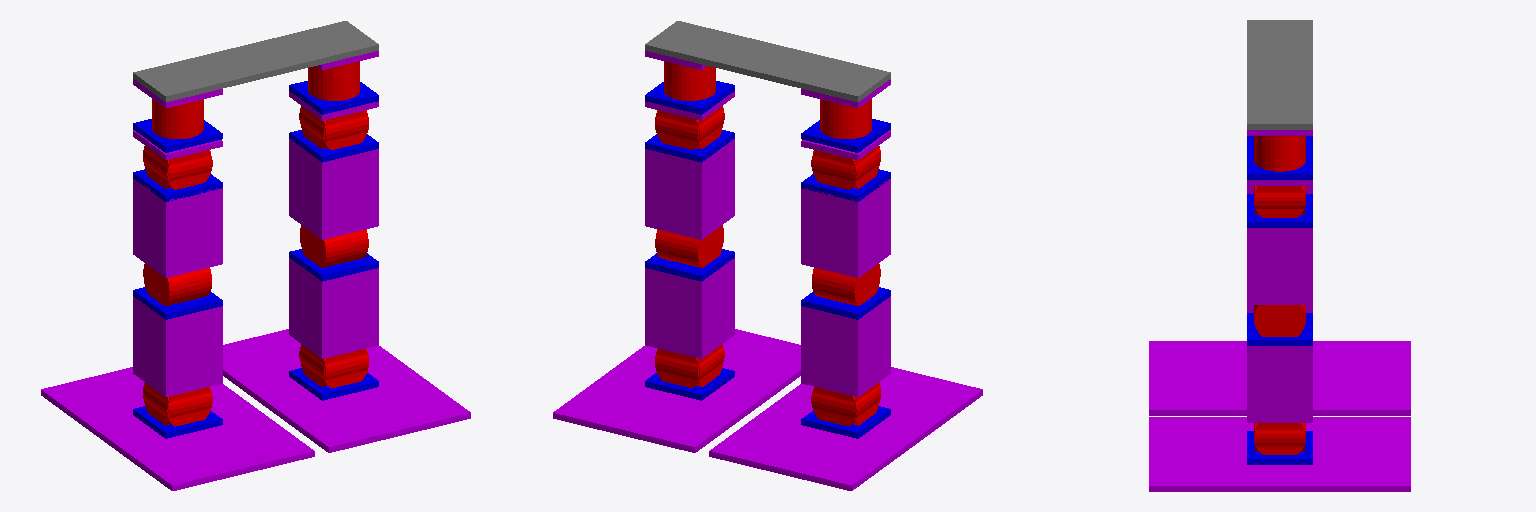
--- What the picture shows (computed from the rendered views, not written in the file) ---
The picture shows the robot from 3 angles, left to right: view 1: azimuth 30°, elevation 25°; view 2: azimuth 150°, elevation 25°; view 3: azimuth 270°, elevation 25°; orthographic projection.
Model piernas with 28 links and 27 joints (12 revolute, 15 fixed), rooted at map, posed all joints at 0.
Visible links, largest first — view 1: pie_der_link, pie_izq_link, base_link, box3_izq_link, box5_der_link, box5_izq_link, box3_der_link, box4_der_link, box1_der_link, box4_izq_link, box1_izq_link, box2_der_link (+15 smaller); view 2: pie_der_link, pie_izq_link, base_link, box3_izq_link, box5_der_link, box5_izq_link, box3_der_link, box4_der_link, box1_der_link, box4_izq_link, box1_izq_link, box2_der_link (+15 smaller); view 3: pie_izq_link, pie_der_link, base_link, box3_izq_link, box5_izq_link, box1_izq_link, box4_izq_link, box2_izq_link, box6_izq_link, blue_box2_izq_link, blue_box6_izq_link, blue_box4_izq_link (+3 smaller).
Link boxes in pixels (box(x1,y1,x2,y2)): pie_der_link: box(41, 367, 314, 490); pie_izq_link: box(223, 329, 470, 452); base_link: box(133, 21, 378, 101); box3_izq_link: box(289, 139, 378, 236); box5_der_link: box(133, 296, 222, 393); box5_izq_link: box(289, 258, 378, 354); box3_der_link: box(133, 179, 222, 273); box4_der_link: box(133, 250, 222, 305); box1_der_link: box(133, 79, 222, 138); box4_izq_link: box(289, 213, 378, 267); box1_izq_link: box(308, 51, 378, 100); box2_der_link: box(133, 130, 222, 188); pie_der_link: box(709, 367, 982, 490); pie_izq_link: box(553, 329, 800, 452); base_link: box(645, 21, 890, 101); box3_izq_link: box(645, 139, 734, 236); box5_der_link: box(801, 296, 890, 393); box5_izq_link: box(645, 258, 734, 354); box3_der_link: box(801, 179, 890, 271); box4_der_link: box(801, 249, 890, 305); box1_der_link: box(801, 79, 890, 138); box4_izq_link: box(645, 212, 734, 267); box1_izq_link: box(645, 51, 715, 100); box2_der_link: box(801, 130, 890, 188); pie_izq_link: box(1149, 417, 1410, 491); pie_der_link: box(1149, 341, 1410, 415); base_link: box(1247, 20, 1312, 129); box3_izq_link: box(1247, 228, 1312, 301); box5_izq_link: box(1247, 346, 1312, 419); box1_izq_link: box(1247, 130, 1312, 171); box4_izq_link: box(1247, 301, 1312, 336); box2_izq_link: box(1247, 180, 1312, 217); box6_izq_link: box(1247, 417, 1312, 454); blue_box2_izq_link: box(1247, 194, 1312, 227); blue_box6_izq_link: box(1247, 431, 1312, 464); blue_box4_izq_link: box(1247, 313, 1312, 345).
Size in the robot's own frame: 0.21 by 0.16 by 0.234 metres.
Geometry: primitives only (box / cylinder / sphere), no mesh files.

The robot description file, URDF, robot "piernas":
<?xml version="1.0" ?>
<!-- =================================================================================== -->
<!-- |    This document was autogenerated by xacro from [local-path]/WS_ROS/ws_tfg/src/bipedo/bipedo_description/urdf/bipedo.xacro | -->
<!-- |    EDITING THIS FILE BY HAND IS NOT RECOMMENDED                                 | -->
<!-- =================================================================================== -->
<robot name="piernas" xmlns:xacro="http://ros.org/wiki/xacro">
  <!-- en kg-->
  <link name="map"/>
  <joint name="map" type="fixed">
    <origin rpy="0 0 0" xyz="0 0 0"/>
    <parent link="map"/>
    <child link="base_link"/>
  </joint>
  <link name="base_link">
    <inertial>
      <origin rpy="0 0 0" xyz="0 0 0"/>
      <mass value="8"/>
      <inertia ixx="0.0188533333333" ixy="0" ixz="0" iyy="0.262686666667" iyz="0" izz="0.262686666667"/>
    </inertial>
    <visual>
      <origin rpy="0 0 0" xyz="0 0 0"/>
      <geometry>
        <box size="0.15 0.04 0.004"/>
      </geometry>
      <material name="">
        <color rgba="0.5 0.5 0.5 1"/>
      </material>
    </visual>
    <collision>
      <origin rpy="0 0 0" xyz="0 0 0"/>
      <geometry>
        <box size="0.15 0.04 0.004"/>
      </geometry>
    </collision>
  </link>
  <!--<xacro:macro name="pierna" params="side side2">
	<xacro:servo side="base"  side2="box" angulo="-${pi/2}"/>
</xacro:macro>-->
  <!-- Build robot model -->
  <!-- <xacro:pierna side="base_link"  side2="2"/>-->
  <joint name="base_box1_izq_joint" type="fixed">
    <origin rpy="0 0 0" xyz="0.055 0 -0.004"/>
    <parent link="base_link"/>
    <child link="box1_izq_link"/>
    <axis xyz="0 0 0"/>
    <limit effort="10000000000000000" lower="-2.5" upper="2.5" velocity="10000000000000000"/>
  </joint>
  <link name="box1_izq_link">
    <inertial>
      <origin rpy="0 0 0" xyz="0 0 0"/>
      <mass value="1.75"/>
      <inertia ixx="0.00235666666667" ixy="0" ixz="0" iyy="0.00235666666667" iyz="0" izz="0.00235666666667"/>
    </inertial>
    <inertial>
      <origin rpy="0 0 0" xyz="0.11 2.7756E-17 1.3293E-50"/>
      <mass value="0.35"/>
      <inertia ixx="0.0024325" ixy="0" ixz="0" iyy="$50*{m*(3*r*r+h*h)/12}" iyz="0" izz="0.00224"/>
    </inertial>
    <visual>
      <origin rpy="0 0 0" xyz="0 0 0"/>
      <geometry>
        <box size="0.04 0.04 0.004"/>
      </geometry>
      <material name="">
        <color rgba="0.79216 0 0.93333 1"/>
      </material>
    </visual>
    <visual>
      <origin rpy="0 0 1.57079632679" xyz="0 0 -0.013"/>
      <geometry>
        <cylinder length="0.03" radius="0.016"/>
      </geometry>
      <material name="">
        <color rgba="1 0 0 1"/>
      </material>
    </visual>
    <collision>
      <origin rpy="0 0 0" xyz="0 0 0"/>
      <geometry>
        <box size="0.008 0.008 0.0008"/>
      </geometry>
    </collision>
    <collision>
      <origin rpy="0 0 1.57079632679" xyz="0 0 -0.013"/>
      <geometry>
        <cylinder length="0.006" radius="0.0032"/>
      </geometry>
    </collision>
  </link>
  <joint name="cilinder_blue_box1_izq_joint" type="revolute">
    <origin rpy="0 0 0" xyz="0 0 -0.017"/>
    <parent link="box1_izq_link"/>
    <child link="blue_box1_izq_link"/>
    <axis xyz="0 0 1"/>
    <limit effort="10000000000000000" lower="-2.5" upper="2.5" velocity="10000000000000000"/>
  </joint>
  <link name="blue_box1_izq_link">
    <inertial>
      <origin rpy="0 0 0" xyz="0 0 0"/>
      <mass value="1.75"/>
      <inertia ixx="0.00235666666667" ixy="0" ixz="0" iyy="0.00235666666667" iyz="0" izz="0.00235666666667"/>
    </inertial>
    <visual>
      <origin rpy="0 0 0" xyz="0 0 -0.013"/>
      <geometry>
        <box size="0.04 0.04 0.004"/>
      </geometry>
      <material name="">
        <color rgba="0 0 1 1"/>
      </material>
    </visual>
    <collision>
      <origin rpy="0 0 0" xyz="0 0 -0.013"/>
      <geometry>
        <box size="0.04 0.04 0.004"/>
      </geometry>
    </collision>
  </link>
  <joint name="blue_box1_izq_box2_izq_joint" type="fixed">
    <origin rpy="0 0 0" xyz="0 0 -0.017"/>
    <parent link="blue_box1_izq_link"/>
    <child link="box2_izq_link"/>
    <axis xyz="0 0 0"/>
    <limit effort="10000000000000000" lower="-2.5" upper="2.5" velocity="10000000000000000"/>
  </joint>
  <link name="box2_izq_link">
    <inertial>
      <origin rpy="0 0 0" xyz="0 0 0"/>
      <mass value="0.35"/>
      <inertia ixx="0.00235666666667" ixy="0" ixz="0" iyy="0.00235666666667" iyz="0" izz="0.00235666666667"/>
    </inertial>
    <inertial>
      <origin rpy="0 0 0" xyz="0.11 2.7756E-17 1.3293E-50"/>
      <mass value="0.35"/>
      <inertia ixx="0.0024325" ixy="0" ixz="0" iyy="$50*{m*(3*r*r+h*h)/12}" iyz="0" izz="0.00224"/>
    </inertial>
    <visual>
      <origin rpy="0 0 0" xyz="0 0 0"/>
      <geometry>
        <box size="0.04 0.04 0.004"/>
      </geometry>
      <material name="">
        <color rgba="0.79216 0 0.93333 1"/>
      </material>
    </visual>
    <visual>
      <origin rpy="1.57079632679 0 1.57079632679" xyz="0 0 -0.014"/>
      <geometry>
        <cylinder length="0.03" radius="0.016"/>
      </geometry>
      <material name="">
        <color rgba="1 0 0 1"/>
      </material>
    </visual>
    <collision>
      <origin rpy="0 0 0" xyz="0 0 0"/>
      <geometry>
        <box size="0.04 0.04 0.004"/>
      </geometry>
    </collision>
    <collision>
      <origin rpy="1.57079632679 0 0" xyz="0 0 -0.014"/>
      <geometry>
        <cylinder length="0.009" radius="0.0048"/>
      </geometry>
    </collision>
  </link>
  <joint name="cilinder_blue1_box2_izq_joint" type="revolute">
    <origin rpy="0 0 0" xyz="0 0 -0.014"/>
    <parent link="box2_izq_link"/>
    <child link="auxiliarbox2_izq"/>
    <axis xyz="0 1 0"/>
    <limit effort="10000000000000000" lower="-2.5" upper="2.5" velocity="10000000000000000"/>
  </joint>
  <link name="auxiliarbox2_izq">
    <inertial>
      <origin rpy="0 0 0" xyz="0 0 0"/>
      <mass value="0.35"/>
      <inertia ixx="0.0" ixy="0" ixz="0" iyy="0.0" iyz="0" izz="0.0"/>
    </inertial>
    <visual>
      <origin rpy="1.57079632679 0 0" xyz="0 0 0"/>
      <geometry>
        <cylinder length="0.03" radius="0.016"/>
      </geometry>
      <material name="">
        <color rgba="1 0 0 1"/>
      </material>
    </visual>
    <collision>
      <origin rpy="1.57079632679 0 1.57079632679" xyz="0 0 0"/>
      <geometry>
        <cylinder length="0.009" radius="0.0048"/>
      </geometry>
    </collision>
  </link>
  <joint name="cilinder_blue_box2_izq_joint" type="revolute">
    <origin rpy="0 0 0" xyz="0 0 0"/>
    <parent link="auxiliarbox2_izq"/>
    <child link="blue_box2_izq_link"/>
    <axis xyz="1 0 0"/>
    <limit effort="10000000000000000" lower="-2.5" upper="2.5" velocity="10000000000000000"/>
  </joint>
  <link name="blue_box2_izq_link">
    <inertial>
      <origin rpy="0 0 0" xyz="0 0 0"/>
      <mass value="0.35"/>
      <inertia ixx="0.00235666666667" ixy="0" ixz="0" iyy="0.00235666666667" iyz="0" izz="0.00235666666667"/>
    </inertial>
    <visual>
      <origin rpy="0 0 0" xyz="0 0 -0.014"/>
      <geometry>
        <box size="0.04 0.04 0.004"/>
      </geometry>
      <material name="">
        <color rgba="0 0 1 1"/>
      </material>
    </visual>
    <collision>
      <origin rpy="0 0 0" xyz="0 0 -0.014"/>
      <geometry>
        <box size="0.04 0.04 0.004"/>
      </geometry>
    </collision>
  </link>
  <joint name="blue_box2_izq_box3_izq_joint" type="fixed">
    <origin rpy="0 0 0" xyz="0 0 -0.041"/>
    <parent link="blue_box2_izq_link"/>
    <child link="box3_izq_link"/>
    <axis xyz="0 0 0"/>
    <limit effort="10000000000000000" lower="-2.5" upper="2.5" velocity="10000000000000000"/>
  </joint>
  <link name="box3_izq_link">
    <inertial>
      <origin rpy="0 0 0" xyz="0 0 0"/>
      <mass value="0.35"/>
      <inertia ixx="0.00235666666667" ixy="0" ixz="0" iyy="0.00235666666667" iyz="0" izz="0.00235666666667"/>
    </inertial>
    <visual>
      <origin rpy="0 0 0" xyz="0 0 0"/>
      <geometry>
        <box size="0.04 0.04 0.05"/>
      </geometry>
      <material name="">
        <color rgba="0.79216 0 0.93333 1"/>
      </material>
    </visual>
    <collision>
      <origin rpy="0 0 0" xyz="0 0 0"/>
      <geometry>
        <box size="0.04 0.04 0.05"/>
      </geometry>
    </collision>
  </link>
  <joint name="box3_izq_box4_izq_joint" type="fixed">
    <origin rpy="0 0 0" xyz="0 0 -0.025"/>
    <parent link="box3_izq_link"/>
    <child link="box4_izq_link"/>
    <axis xyz="0 0 0"/>
    <limit effort="10000000000000000" lower="-2.5" upper="2.5" velocity="10000000000000000"/>
  </joint>
  <link name="box4_izq_link">
    <inertial>
      <origin rpy="0 0 0" xyz="0 0 0"/>
      <mass value="0.35"/>
      <inertia ixx="0.00235666666667" ixy="0" ixz="0" iyy="0.00235666666667" iyz="0" izz="0.00235666666667"/>
    </inertial>
    <inertial>
      <origin rpy="0 0 0" xyz="0.11 2.7756E-17 1.3293E-50"/>
      <mass value="0.35"/>
      <inertia ixx="0.0024325" ixy="0" ixz="0" iyy="$50*{m*(3*r*r+h*h)/12}" iyz="0" izz="0.00224"/>
    </inertial>
    <visual>
      <origin rpy="0 0 0" xyz="0 0 0"/>
      <geometry>
        <box size="0.04 0.04 0.004"/>
      </geometry>
      <material name="">
        <color rgba="0.79216 0 0.93333 1"/>
      </material>
    </visual>
    <visual>
      <origin rpy="1.57079632679 0 1.57079632679" xyz="0 0 -0.014"/>
      <geometry>
        <cylinder length="0.03" radius="0.016"/>
      </geometry>
      <material name="">
        <color rgba="1 0 0 1"/>
      </material>
    </visual>
    <collision>
      <origin rpy="0 0 0" xyz="0 0 0"/>
      <geometry>
        <box size="0.04 0.04 0.004"/>
      </geometry>
    </collision>
    <collision>
      <origin rpy="1.57079632679 0 1.57079632679" xyz="0 0 -0.014"/>
      <geometry>
        <cylinder length="0.03" radius="0.016"/>
      </geometry>
    </collision>
  </link>
  <joint name="cilinder_blue_box4_izq_joint" type="revolute">
    <origin rpy="0 0 0" xyz="0 0 -0.014"/>
    <parent link="box4_izq_link"/>
    <child link="blue_box4_izq_link"/>
    <axis xyz="1 0 0"/>
    <limit effort="10000000000000000" lower="-2.5" upper="2.5" velocity="10000000000000000"/>
  </joint>
  <link name="blue_box4_izq_link">
    <inertial>
      <origin rpy="0 0 0" xyz="0 0 0"/>
      <mass value="0.35"/>
      <inertia ixx="0.00235666666667" ixy="0" ixz="0" iyy="0.00235666666667" iyz="0" izz="0.00235666666667"/>
    </inertial>
    <visual>
      <origin rpy="0 0 0" xyz="0 0 -0.014"/>
      <geometry>
        <box size="0.04 0.04 0.004"/>
      </geometry>
      <material name="">
        <color rgba="0 0 1 1"/>
      </material>
    </visual>
    <collision>
      <origin rpy="0 0 0" xyz="0 0 -0.014"/>
      <geometry>
        <box size="0.04 0.04 0.004"/>
      </geometry>
    </collision>
  </link>
  <joint name="blue_box4_izq_box5_izq_joint" type="fixed">
    <origin rpy="0 0 0" xyz="0 0 -0.041"/>
    <parent link="blue_box4_izq_link"/>
    <child link="box5_izq_link"/>
    <axis xyz="0 0 0"/>
    <limit effort="10000000000000000" lower="-2.5" upper="2.5" velocity="10000000000000000"/>
  </joint>
  <link name="box5_izq_link">
    <inertial>
      <origin rpy="0 0 0" xyz="0 0 0"/>
      <mass value="0.35"/>
      <inertia ixx="0.00235666666667" ixy="0" ixz="0" iyy="0.00235666666667" iyz="0" izz="0.00235666666667"/>
    </inertial>
    <visual>
      <origin rpy="0 0 0" xyz="0 0 0"/>
      <geometry>
        <box size="0.04 0.04 0.05"/>
      </geometry>
      <material name="">
        <color rgba="0.79216 0 0.93333 1"/>
      </material>
    </visual>
    <collision>
      <origin rpy="0 0 0" xyz="0 0 0"/>
      <geometry>
        <box size="0.04 0.04 0.05"/>
      </geometry>
    </collision>
  </link>
  <joint name="box5_izq_box6_izq_joint" type="fixed">
    <origin rpy="0 0 0" xyz="0 0 -0.025"/>
    <parent link="box5_izq_link"/>
    <child link="box6_izq_link"/>
    <axis xyz="0 0 0"/>
    <limit effort="10000000000000000" lower="-2.5" upper="2.5" velocity="10000000000000000"/>
  </joint>
  <link name="box6_izq_link">
    <inertial>
      <origin rpy="0 0 0" xyz="0 0 0"/>
      <mass value="0.35"/>
      <inertia ixx="0.00235666666667" ixy="0" ixz="0" iyy="0.00235666666667" iyz="0" izz="0.00235666666667"/>
    </inertial>
    <inertial>
      <origin rpy="0 0 0" xyz="0.11 2.7756E-17 1.3293E-50"/>
      <mass value="0.35"/>
      <inertia ixx="0.0024325" ixy="0" ixz="0" iyy="$50*{m*(3*r*r+h*h)/12}" iyz="0" izz="0.00224"/>
    </inertial>
    <visual>
      <origin rpy="0 0 0" xyz="0 0 0"/>
      <geometry>
        <box size="0.04 0.04 0.004"/>
      </geometry>
      <material name="">
        <color rgba="0.79216 0 0.93333 1"/>
      </material>
    </visual>
    <visual>
      <origin rpy="1.57079632679 0 1.57079632679" xyz="0 0 -0.014"/>
      <geometry>
        <cylinder length="0.03" radius="0.016"/>
      </geometry>
      <material name="">
        <color rgba="1 0 0 1"/>
      </material>
    </visual>
    <collision>
      <origin rpy="0 0 0" xyz="0 0 0"/>
      <geometry>
        <box size="0.04 0.04 0.004"/>
      </geometry>
    </collision>
    <collision>
      <origin rpy="1.57079632679 0 0" xyz="0 0 -0.014"/>
      <geometry>
        <cylinder length="0.009" radius="0.0048"/>
      </geometry>
    </collision>
  </link>
  <joint name="cilinder_blue1_box6_izq_joint" type="revolute">
    <origin rpy="0 0 0" xyz="0 0 -0.014"/>
    <parent link="box6_izq_link"/>
    <child link="auxiliarbox6_izq"/>
    <axis xyz="0 1 0"/>
    <limit effort="10000000000000000" lower="-2.5" upper="2.5" velocity="10000000000000000"/>
  </joint>
  <link name="auxiliarbox6_izq">
    <inertial>
      <origin rpy="0 0 0" xyz="0 0 0"/>
      <mass value="0.35"/>
      <inertia ixx="0.0" ixy="0" ixz="0" iyy="0.0" iyz="0" izz="0.0"/>
    </inertial>
    <visual>
      <origin rpy="1.57079632679 0 0" xyz="0 0 0"/>
      <geometry>
        <cylinder length="0.03" radius="0.016"/>
      </geometry>
      <material name="">
        <color rgba="1 0 0 1"/>
      </material>
    </visual>
    <collision>
      <origin rpy="1.57079632679 0 1.57079632679" xyz="0 0 0"/>
      <geometry>
        <cylinder length="0.009" radius="0.0048"/>
      </geometry>
    </collision>
  </link>
  <joint name="cilinder_blue_box6_izq_joint" type="revolute">
    <origin rpy="0 0 0" xyz="0 0 0"/>
    <parent link="auxiliarbox6_izq"/>
    <child link="blue_box6_izq_link"/>
    <axis xyz="1 0 0"/>
    <limit effort="10000000000000000" lower="-2.5" upper="2.5" velocity="10000000000000000"/>
  </joint>
  <link name="blue_box6_izq_link">
    <inertial>
      <origin rpy="0 0 0" xyz="0 0 0"/>
      <mass value="0.35"/>
      <inertia ixx="0.00235666666667" ixy="0" ixz="0" iyy="0.00235666666667" iyz="0" izz="0.00235666666667"/>
    </inertial>
    <visual>
      <origin rpy="0 0 0" xyz="0 0 -0.014"/>
      <geometry>
        <box size="0.04 0.04 0.004"/>
      </geometry>
      <material name="">
        <color rgba="0 0 1 1"/>
      </material>
    </visual>
    <collision>
      <origin rpy="0 0 0" xyz="0 0 -0.014"/>
      <geometry>
        <box size="0.04 0.04 0.004"/>
      </geometry>
    </collision>
  </link>
  <joint name="blue_box6_izq_pie_izq_joint" type="fixed">
    <origin rpy="0 0 0" xyz="0 0 -0.018"/>
    <parent link="blue_box6_izq_link"/>
    <child link="pie_izq_link"/>
    <axis xyz="0 0 0"/>
    <limit effort="100" lower="-2.5" upper="2.5" velocity="10000000000000000"/>
  </joint>
  <link name="pie_izq_link">
    <inertial>
      <origin rpy="0 0 0" xyz="0 0 0"/>
      <mass value="0.35"/>
      <inertia ixx="0.00935666666667" ixy="0" ixz="0" iyy="0.00935666666667" iyz="0" izz="0.00935666666667"/>
    </inertial>
    <visual>
      <origin rpy="0 0 0" xyz="0 0 0"/>
      <geometry>
        <box size="0.1 0.16 0.004"/>
      </geometry>
      <material name="">
        <color rgba="0.79216 0 0.93333 1"/>
      </material>
    </visual>
    <collision>
      <origin rpy="0 0 0" xyz="0 0 0"/>
      <geometry>
        <box size="0.12 0.16 0.004"/>
      </geometry>
    </collision>
  </link>
  <joint name="base_box1_der_joint" type="fixed">
    <origin rpy="0 0 0" xyz="-0.055 0 -0.004"/>
    <parent link="base_link"/>
    <child link="box1_der_link"/>
    <axis xyz="0 0 0"/>
    <limit effort="10000000000000000" lower="-2.5" upper="2.5" velocity="10000000000000000"/>
  </joint>
  <link name="box1_der_link">
    <inertial>
      <origin rpy="0 0 0" xyz="0 0 0"/>
      <mass value="1.75"/>
      <inertia ixx="0.00235666666667" ixy="0" ixz="0" iyy="0.00235666666667" iyz="0" izz="0.00235666666667"/>
    </inertial>
    <inertial>
      <origin rpy="0 0 0" xyz="0.11 2.7756E-17 1.3293E-50"/>
      <mass value="0.35"/>
      <inertia ixx="0.0024325" ixy="0" ixz="0" iyy="$50*{m*(3*r*r+h*h)/12}" iyz="0" izz="0.00224"/>
    </inertial>
    <visual>
      <origin rpy="0 0 0" xyz="0 0 0"/>
      <geometry>
        <box size="0.04 0.04 0.004"/>
      </geometry>
      <material name="">
        <color rgba="0.79216 0 0.93333 1"/>
      </material>
    </visual>
    <visual>
      <origin rpy="0 0 1.57079632679" xyz="0 0 -0.013"/>
      <geometry>
        <cylinder length="0.03" radius="0.016"/>
      </geometry>
      <material name="">
        <color rgba="1 0 0 1"/>
      </material>
    </visual>
    <collision>
      <origin rpy="0 0 0" xyz="0 0 0"/>
      <geometry>
        <box size="0.008 0.008 0.0008"/>
      </geometry>
    </collision>
    <collision>
      <origin rpy="0 0 1.57079632679" xyz="0 0 -0.013"/>
      <geometry>
        <cylinder length="0.006" radius="0.0032"/>
      </geometry>
    </collision>
  </link>
  <joint name="cilinder_blue_box1_der_joint" type="revolute">
    <origin rpy="0 0 0" xyz="0 0 -0.017"/>
    <parent link="box1_der_link"/>
    <child link="blue_box1_der_link"/>
    <axis xyz="0 0 1"/>
    <limit effort="10000000000000000" lower="-2.5" upper="2.5" velocity="10000000000000000"/>
  </joint>
  <link name="blue_box1_der_link">
    <inertial>
      <origin rpy="0 0 0" xyz="0 0 0"/>
      <mass value="1.75"/>
      <inertia ixx="0.00235666666667" ixy="0" ixz="0" iyy="0.00235666666667" iyz="0" izz="0.00235666666667"/>
    </inertial>
    <visual>
      <origin rpy="0 0 0" xyz="0 0 -0.013"/>
      <geometry>
        <box size="0.04 0.04 0.004"/>
      </geometry>
      <material name="">
        <color rgba="0 0 1 1"/>
      </material>
    </visual>
    <collision>
      <origin rpy="0 0 0" xyz="0 0 -0.013"/>
      <geometry>
        <box size="0.04 0.04 0.004"/>
      </geometry>
    </collision>
  </link>
  <joint name="blue_box1_der_box2_der_joint" type="fixed">
    <origin rpy="0 0 0" xyz="0 0 -0.018"/>
    <parent link="blue_box1_der_link"/>
    <child link="box2_der_link"/>
    <axis xyz="0 0 0"/>
    <limit effort="10000000000000000" lower="-2.5" upper="2.5" velocity="10000000000000000"/>
  </joint>
  <link name="box2_der_link">
    <inertial>
      <origin rpy="0 0 0" xyz="0 0 0"/>
      <mass value="0.35"/>
      <inertia ixx="0.00235666666667" ixy="0" ixz="0" iyy="0.00235666666667" iyz="0" izz="0.00235666666667"/>
    </inertial>
    <inertial>
      <origin rpy="0 0 0" xyz="0.11 2.7756E-17 1.3293E-50"/>
      <mass value="0.35"/>
      <inertia ixx="0.0024325" ixy="0" ixz="0" iyy="$50*{m*(3*r*r+h*h)/12}" iyz="0" izz="0.00224"/>
    </inertial>
    <visual>
      <origin rpy="0 0 0" xyz="0 0 0"/>
      <geometry>
        <box size="0.04 0.04 0.004"/>
      </geometry>
      <material name="">
        <color rgba="0.79216 0 0.93333 1"/>
      </material>
    </visual>
    <visual>
      <origin rpy="1.57079632679 0 1.57079632679" xyz="0 0 -0.014"/>
      <geometry>
        <cylinder length="0.03" radius="0.016"/>
      </geometry>
      <material name="">
        <color rgba="1 0 0 1"/>
      </material>
    </visual>
    <collision>
      <origin rpy="0 0 0" xyz="0 0 0"/>
      <geometry>
        <box size="0.04 0.04 0.004"/>
      </geometry>
    </collision>
    <collision>
      <origin rpy="1.57079632679 0 0" xyz="0 0 -0.014"/>
      <geometry>
        <cylinder length="0.009" radius="0.0048"/>
      </geometry>
    </collision>
  </link>
  <joint name="cilinder_blue1_box2_der_joint" type="revolute">
    <origin rpy="0 0 0" xyz="0 0 -0.014"/>
    <parent link="box2_der_link"/>
    <child link="auxiliarbox2_der"/>
    <axis xyz="0 1 0"/>
    <limit effort="10000000000000000" lower="-2.5" upper="2.5" velocity="10000000000000000"/>
  </joint>
  <link name="auxiliarbox2_der">
    <inertial>
      <origin rpy="0 0 0" xyz="0 0 0"/>
      <mass value="0.35"/>
      <inertia ixx="0.0" ixy="0" ixz="0" iyy="0.0" iyz="0" izz="0.0"/>
    </inertial>
    <visual>
      <origin rpy="1.57079632679 0 0" xyz="0 0 0"/>
      <geometry>
        <cylinder length="0.03" radius="0.016"/>
      </geometry>
      <material name="">
        <color rgba="1 0 0 1"/>
      </material>
    </visual>
    <collision>
      <origin rpy="1.57079632679 0 1.57079632679" xyz="0 0 0"/>
      <geometry>
        <cylinder length="0.009" radius="0.0048"/>
      </geometry>
    </collision>
  </link>
  <joint name="cilinder_blue_box2_der_joint" type="revolute">
    <origin rpy="0 0 0" xyz="0 0 0"/>
    <parent link="auxiliarbox2_der"/>
    <child link="blue_box2_der_link"/>
    <axis xyz="1 0 0"/>
    <limit effort="10000000000000000" lower="-2.5" upper="2.5" velocity="10000000000000000"/>
  </joint>
  <link name="blue_box2_der_link">
    <inertial>
      <origin rpy="0 0 0" xyz="0 0 0"/>
      <mass value="0.35"/>
      <inertia ixx="0.00235666666667" ixy="0" ixz="0" iyy="0.00235666666667" iyz="0" izz="0.00235666666667"/>
    </inertial>
    <visual>
      <origin rpy="0 0 0" xyz="0 0 -0.014"/>
      <geometry>
        <box size="0.04 0.04 0.004"/>
      </geometry>
      <material name="">
        <color rgba="0 0 1 1"/>
      </material>
    </visual>
    <collision>
      <origin rpy="0 0 0" xyz="0 0 -0.014"/>
      <geometry>
        <box size="0.04 0.04 0.004"/>
      </geometry>
    </collision>
  </link>
  <joint name="blue_box2_der_box3_der_joint" type="fixed">
    <origin rpy="0 0 0" xyz="0 0 -0.04"/>
    <parent link="blue_box2_der_link"/>
    <child link="box3_der_link"/>
    <axis xyz="0 0 0"/>
    <limit effort="10000000000000000" lower="-2.5" upper="2.5" velocity="10000000000000000"/>
  </joint>
  <link name="box3_der_link">
    <inertial>
      <origin rpy="0 0 0" xyz="0 0 0"/>
      <mass value="0.35"/>
      <inertia ixx="0.00235666666667" ixy="0" ixz="0" iyy="0.00235666666667" iyz="0" izz="0.00235666666667"/>
    </inertial>
    <visual>
      <origin rpy="0 0 0" xyz="0 0 0"/>
      <geometry>
        <box size="0.04 0.04 0.05"/>
      </geometry>
      <material name="">
        <color rgba="0.79216 0 0.93333 1"/>
      </material>
    </visual>
    <collision>
      <origin rpy="0 0 0" xyz="0 0 0"/>
      <geometry>
        <box size="0.04 0.04 0.05"/>
      </geometry>
    </collision>
  </link>
  <joint name="box3_der_box4_der_joint" type="fixed">
    <origin rpy="0 0 0" xyz="0 0 -0.025"/>
    <parent link="box3_der_link"/>
    <child link="box4_der_link"/>
    <axis xyz="0 0 0"/>
    <limit effort="10000000000000000" lower="-2.5" upper="2.5" velocity="10000000000000000"/>
  </joint>
  <link name="box4_der_link">
    <inertial>
      <origin rpy="0 0 0" xyz="0 0 0"/>
      <mass value="0.35"/>
      <inertia ixx="0.00235666666667" ixy="0" ixz="0" iyy="0.00235666666667" iyz="0" izz="0.00235666666667"/>
    </inertial>
    <inertial>
      <origin rpy="0 0 0" xyz="0.11 2.7756E-17 1.3293E-50"/>
      <mass value="0.35"/>
      <inertia ixx="0.0024325" ixy="0" ixz="0" iyy="$50*{m*(3*r*r+h*h)/12}" iyz="0" izz="0.00224"/>
    </inertial>
    <visual>
      <origin rpy="0 0 0" xyz="0 0 0"/>
      <geometry>
        <box size="0.04 0.04 0.004"/>
      </geometry>
      <material name="">
        <color rgba="0.79216 0 0.93333 1"/>
      </material>
    </visual>
    <visual>
      <origin rpy="1.57079632679 0 1.57079632679" xyz="0 0 -0.014"/>
      <geometry>
        <cylinder length="0.03" radius="0.016"/>
      </geometry>
      <material name="">
        <color rgba="1 0 0 1"/>
      </material>
    </visual>
    <collision>
      <origin rpy="0 0 0" xyz="0 0 0"/>
      <geometry>
        <box size="0.04 0.04 0.004"/>
      </geometry>
    </collision>
    <collision>
      <origin rpy="1.57079632679 0 1.57079632679" xyz="0 0 -0.014"/>
      <geometry>
        <cylinder length="0.03" radius="0.016"/>
      </geometry>
    </collision>
  </link>
  <joint name="cilinder_blue_box4_der_joint" type="revolute">
    <origin rpy="0 0 0" xyz="0 0 -0.014"/>
    <parent link="box4_der_link"/>
    <child link="blue_box4_der_link"/>
    <axis xyz="1 0 0"/>
    <limit effort="10000000000000000" lower="-2.5" upper="2.5" velocity="10000000000000000"/>
  </joint>
  <link name="blue_box4_der_link">
    <inertial>
      <origin rpy="0 0 0" xyz="0 0 0"/>
      <mass value="0.35"/>
      <inertia ixx="0.00235666666667" ixy="0" ixz="0" iyy="0.00235666666667" iyz="0" izz="0.00235666666667"/>
    </inertial>
    <visual>
      <origin rpy="0 0 0" xyz="0 0 -0.014"/>
      <geometry>
        <box size="0.04 0.04 0.004"/>
      </geometry>
      <material name="">
        <color rgba="0 0 1 1"/>
      </material>
    </visual>
    <collision>
      <origin rpy="0 0 0" xyz="0 0 -0.014"/>
      <geometry>
        <box size="0.04 0.04 0.004"/>
      </geometry>
    </collision>
  </link>
  <joint name="blue_box4_der_box5_der_joint" type="fixed">
    <origin rpy="0 0 0" xyz="0 0 -0.041"/>
    <parent link="blue_box4_der_link"/>
    <child link="box5_der_link"/>
    <axis xyz="0 0 0"/>
    <limit effort="10000000000000000" lower="-2.5" upper="2.5" velocity="10000000000000000"/>
  </joint>
  <link name="box5_der_link">
    <inertial>
      <origin rpy="0 0 0" xyz="0 0 0"/>
      <mass value="0.35"/>
      <inertia ixx="0.00235666666667" ixy="0" ixz="0" iyy="0.00235666666667" iyz="0" izz="0.00235666666667"/>
    </inertial>
    <visual>
      <origin rpy="0 0 0" xyz="0 0 0"/>
      <geometry>
        <box size="0.04 0.04 0.05"/>
      </geometry>
      <material name="">
        <color rgba="0.79216 0 0.93333 1"/>
      </material>
    </visual>
    <collision>
      <origin rpy="0 0 0" xyz="0 0 0"/>
      <geometry>
        <box size="0.04 0.04 0.05"/>
      </geometry>
    </collision>
  </link>
  <joint name="box5_der_box6_der_joint" type="fixed">
    <origin rpy="0 0 0" xyz="0 0 -0.025"/>
    <parent link="box5_der_link"/>
    <child link="box6_der_link"/>
    <axis xyz="0 0 0"/>
    <limit effort="10000000000000000" lower="-2.5" upper="2.5" velocity="10000000000000000"/>
  </joint>
  <link name="box6_der_link">
    <inertial>
      <origin rpy="0 0 0" xyz="0 0 0"/>
      <mass value="0.35"/>
      <inertia ixx="0.00235666666667" ixy="0" ixz="0" iyy="0.00235666666667" iyz="0" izz="0.00235666666667"/>
    </inertial>
    <inertial>
      <origin rpy="0 0 0" xyz="0.11 2.7756E-17 1.3293E-50"/>
      <mass value="0.35"/>
      <inertia ixx="0.0024325" ixy="0" ixz="0" iyy="$50*{m*(3*r*r+h*h)/12}" iyz="0" izz="0.00224"/>
    </inertial>
    <visual>
      <origin rpy="0 0 0" xyz="0 0 0"/>
      <geometry>
        <box size="0.04 0.04 0.004"/>
      </geometry>
      <material name="">
        <color rgba="0.79216 0 0.93333 1"/>
      </material>
    </visual>
    <visual>
      <origin rpy="1.57079632679 0 1.57079632679" xyz="0 0 -0.014"/>
      <geometry>
        <cylinder length="0.03" radius="0.016"/>
      </geometry>
      <material name="">
        <color rgba="1 0 0 1"/>
      </material>
    </visual>
    <collision>
      <origin rpy="0 0 0" xyz="0 0 0"/>
      <geometry>
        <box size="0.04 0.04 0.004"/>
      </geometry>
    </collision>
    <collision>
      <origin rpy="1.57079632679 0 0" xyz="0 0 -0.014"/>
      <geometry>
        <cylinder length="0.009" radius="0.0048"/>
      </geometry>
    </collision>
  </link>
  <joint name="cilinder_blue1_box6_der_joint" type="revolute">
    <origin rpy="0 0 0" xyz="0 0 -0.014"/>
    <parent link="box6_der_link"/>
    <child link="auxiliarbox6_der"/>
    <axis xyz="0 1 0"/>
    <limit effort="10000000000000000" lower="-2.5" upper="2.5" velocity="10000000000000000"/>
  </joint>
  <link name="auxiliarbox6_der">
    <inertial>
      <origin rpy="0 0 0" xyz="0 0 0"/>
      <mass value="0.35"/>
      <inertia ixx="0.0" ixy="0" ixz="0" iyy="0.0" iyz="0" izz="0.0"/>
    </inertial>
    <visual>
      <origin rpy="1.57079632679 0 0" xyz="0 0 0"/>
      <geometry>
        <cylinder length="0.03" radius="0.016"/>
      </geometry>
      <material name="">
        <color rgba="1 0 0 1"/>
      </material>
    </visual>
    <collision>
      <origin rpy="1.57079632679 0 1.57079632679" xyz="0 0 0"/>
      <geometry>
        <cylinder length="0.009" radius="0.0048"/>
      </geometry>
    </collision>
  </link>
  <joint name="cilinder_blue_box6_der_joint" type="revolute">
    <origin rpy="0 0 0" xyz="0 0 0"/>
    <parent link="auxiliarbox6_der"/>
    <child link="blue_box6_der_link"/>
    <axis xyz="1 0 0"/>
    <limit effort="10000000000000000" lower="-2.5" upper="2.5" velocity="10000000000000000"/>
  </joint>
  <link name="blue_box6_der_link">
    <inertial>
      <origin rpy="0 0 0" xyz="0 0 0"/>
      <mass value="0.35"/>
      <inertia ixx="0.00235666666667" ixy="0" ixz="0" iyy="0.00235666666667" iyz="0" izz="0.00235666666667"/>
    </inertial>
    <visual>
      <origin rpy="0 0 0" xyz="0 0 -0.014"/>
      <geometry>
        <box size="0.04 0.04 0.004"/>
      </geometry>
      <material name="">
        <color rgba="0 0 1 1"/>
      </material>
    </visual>
    <collision>
      <origin rpy="0 0 0" xyz="0 0 -0.014"/>
      <geometry>
        <box size="0.04 0.04 0.004"/>
      </geometry>
    </collision>
  </link>
  <joint name="blue_box6_der_pie_der_joint" type="fixed">
    <origin rpy="0 0 0" xyz="0 0 -0.018"/>
    <parent link="blue_box6_der_link"/>
    <child link="pie_der_link"/>
    <axis xyz="0 0 0"/>
    <limit effort="100" lower="-2.5" upper="2.5" velocity="10000000000000000"/>
  </joint>
  <link name="pie_der_link">
    <inertial>
      <origin rpy="0 0 0" xyz="0 0 0"/>
      <mass value="0.35"/>
      <inertia ixx="0.00935666666667" ixy="0" ixz="0" iyy="0.00935666666667" iyz="0" izz="0.00935666666667"/>
    </inertial>
    <visual>
      <origin rpy="0 0 0" xyz="0 0 0"/>
      <geometry>
        <box size="0.1 0.16 0.004"/>
      </geometry>
      <material name="">
        <color rgba="0.79216 0 0.93333 1"/>
      </material>
    </visual>
    <collision>
      <origin rpy="0 0 0" xyz="0 0 0"/>
      <geometry>
        <box size="0.12 0.16 0.004"/>
      </geometry>
    </collision>
  </link>
  <!---->
</robot>
